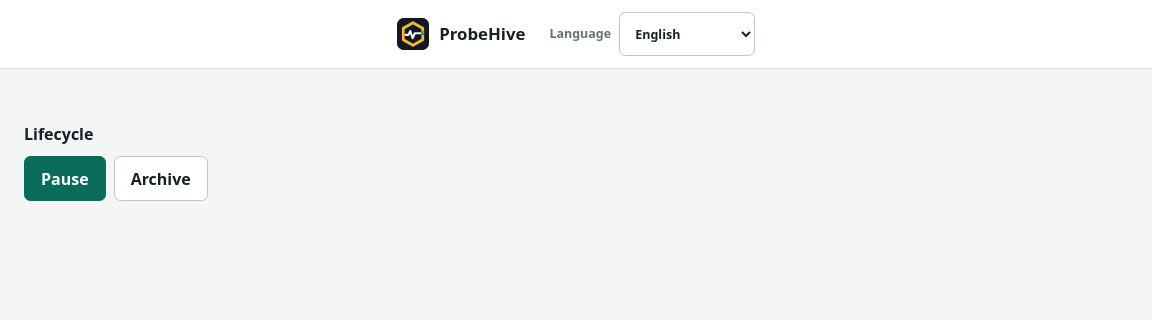
Scenario: requires confirmation before archiving a Monitor
This screenshot has width=1152, height=320.
Click the button "Archive": [161, 179] box [114, 156, 208, 201]
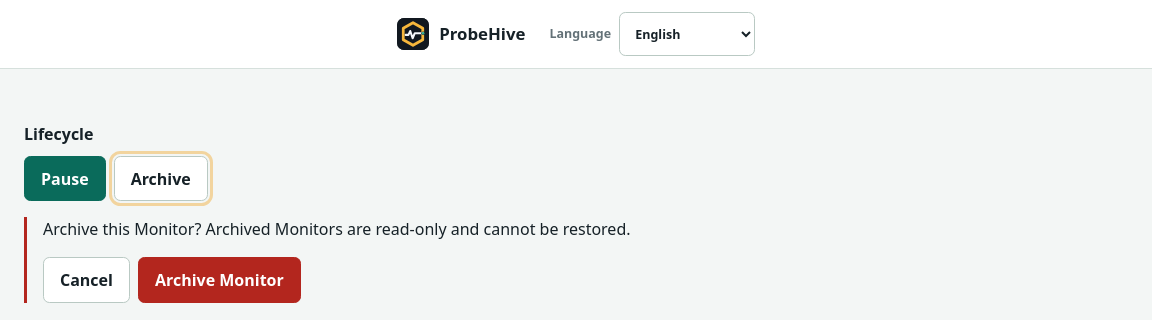
Expected: the element named "Archive Monitor" shows "Archive this Monitor? Archived Monitors are read-only and cannot be restored.", [43, 218, 630, 240]
Click the button "Cancel": [86, 280] box [43, 257, 130, 303]
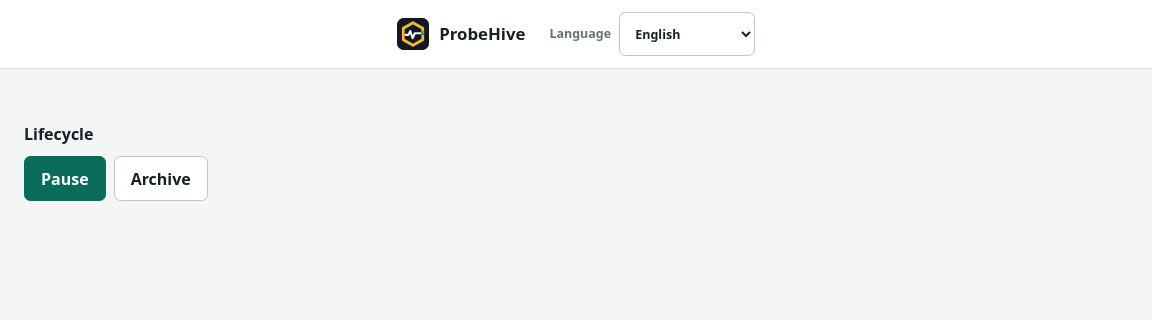
Expected: the button "Archive Monitor" is gone
Click the button "Archive": [161, 179] box [114, 156, 208, 201]
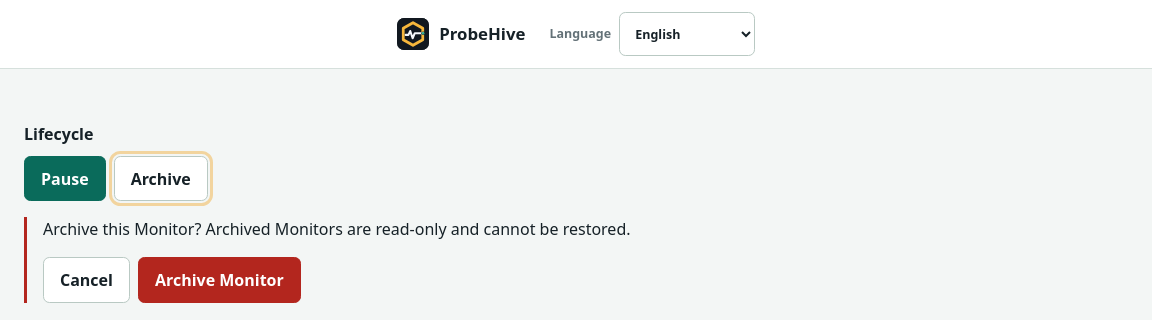
Click the button "Archive Monitor": [219, 280] box [138, 257, 301, 303]
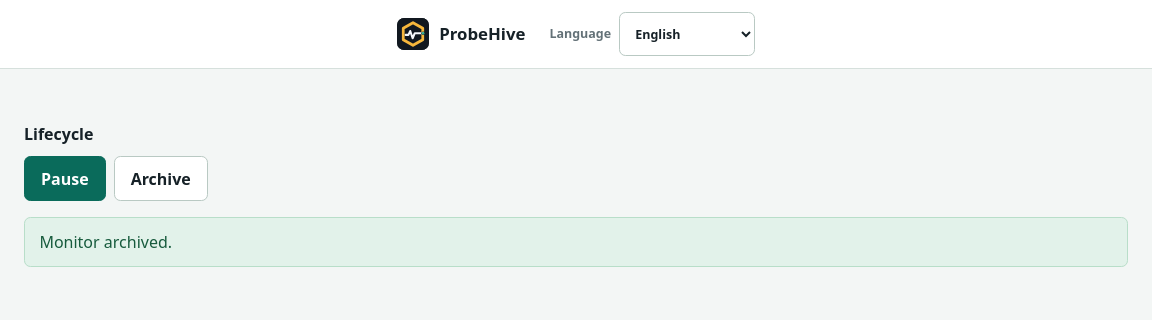
Expected: the text "Monitor archived." is shown, [24, 217, 1128, 267]
